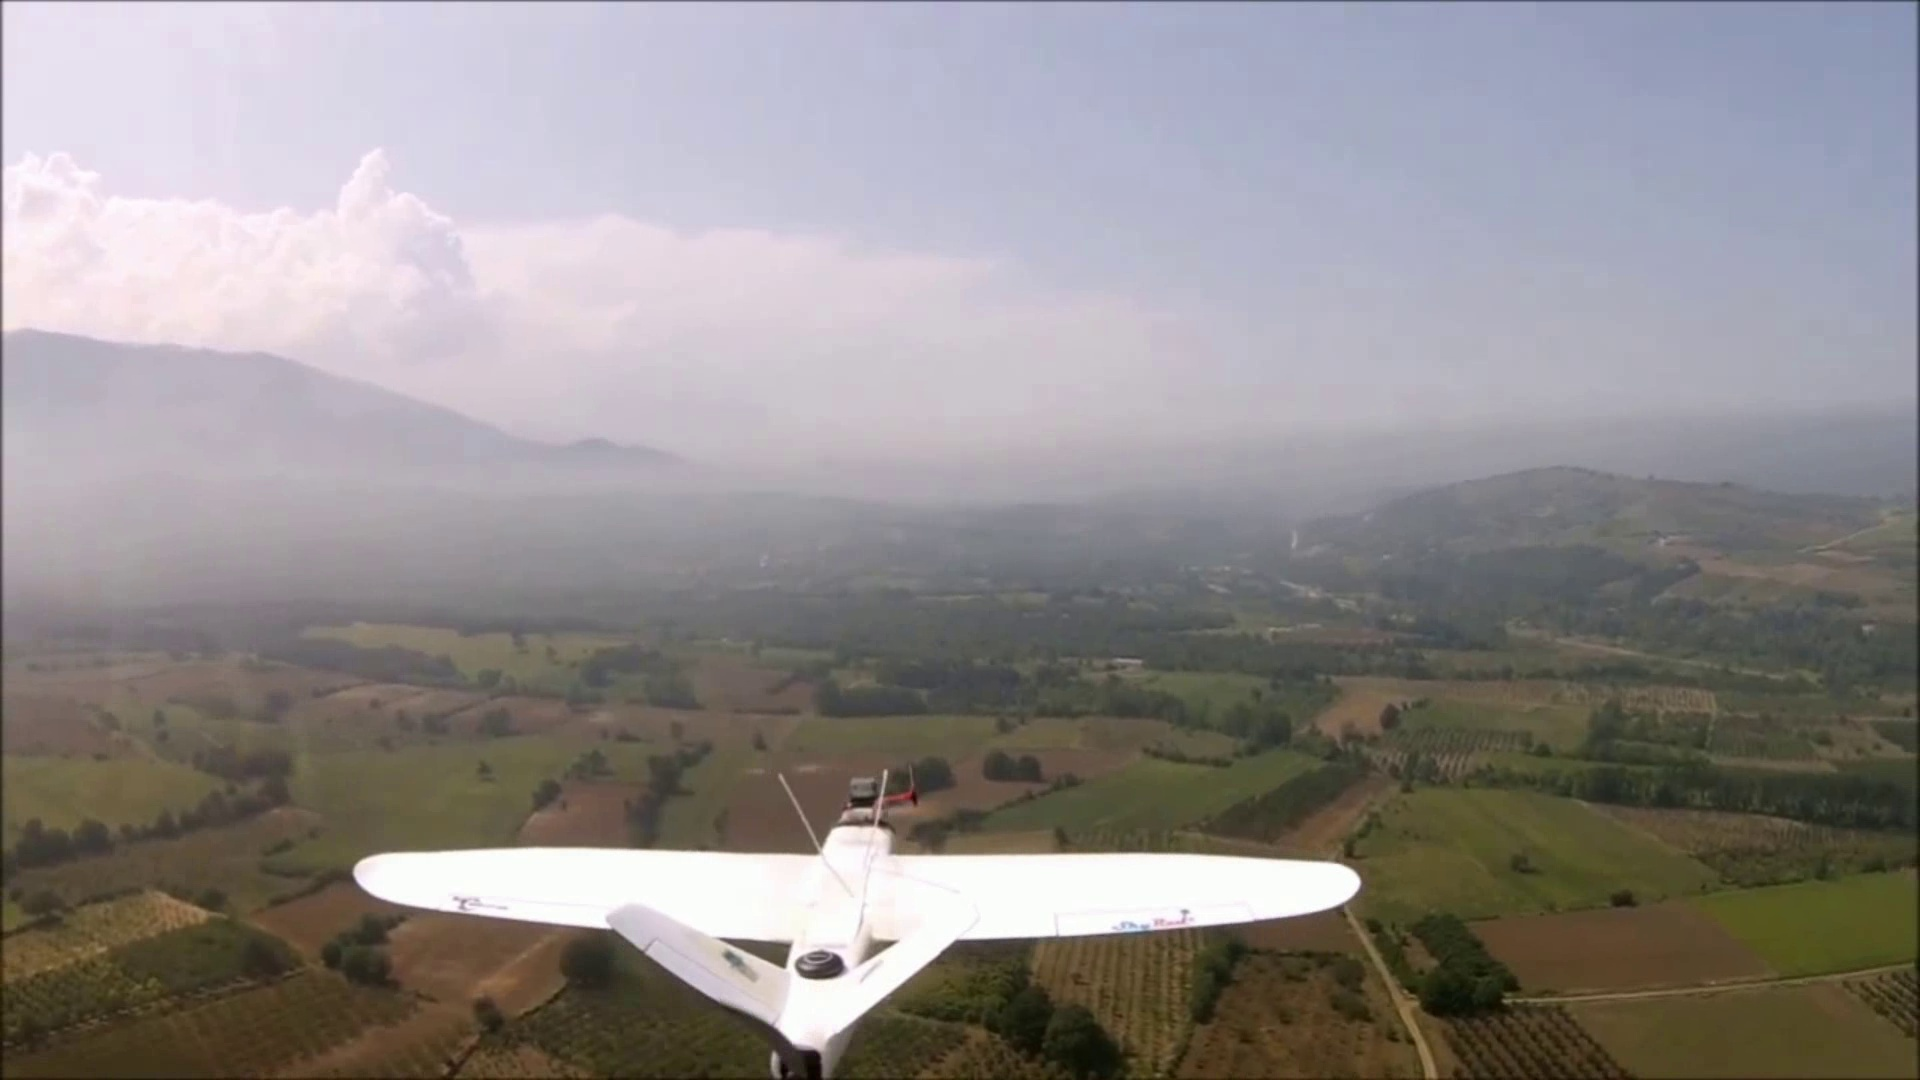airplane: (352, 767, 1366, 1070)
